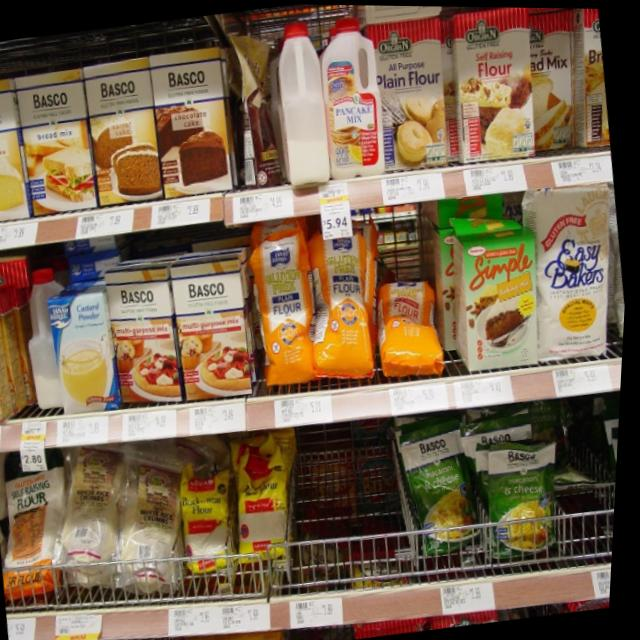q187: (309, 4, 402, 180)
